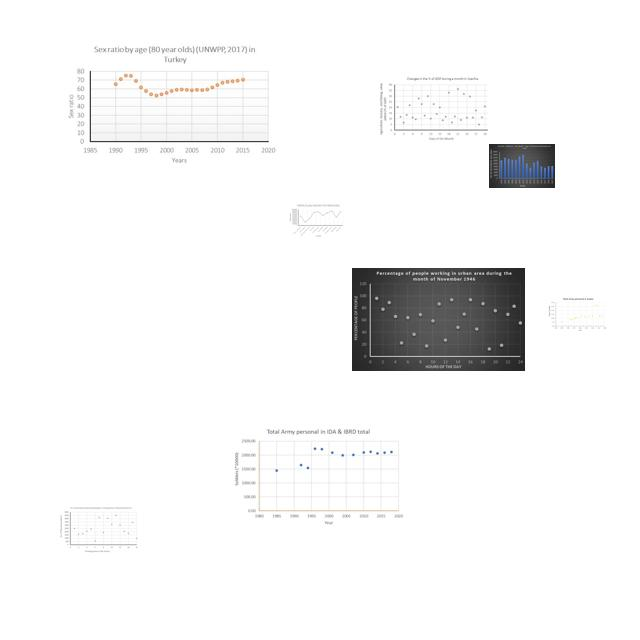Graph: (61, 40, 278, 170), (352, 268, 525, 371), (234, 425, 406, 526), (377, 75, 491, 143), (59, 505, 139, 554), (489, 144, 555, 188), (548, 297, 607, 332), (289, 204, 344, 237)
